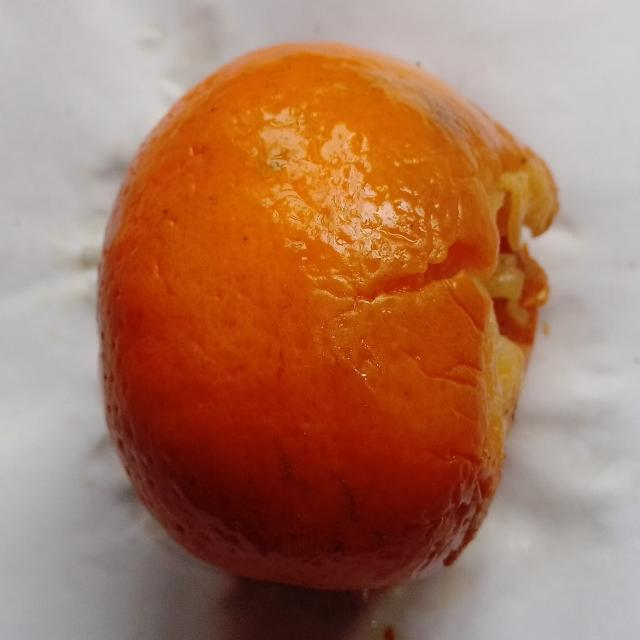orange: (99, 44, 557, 589)
